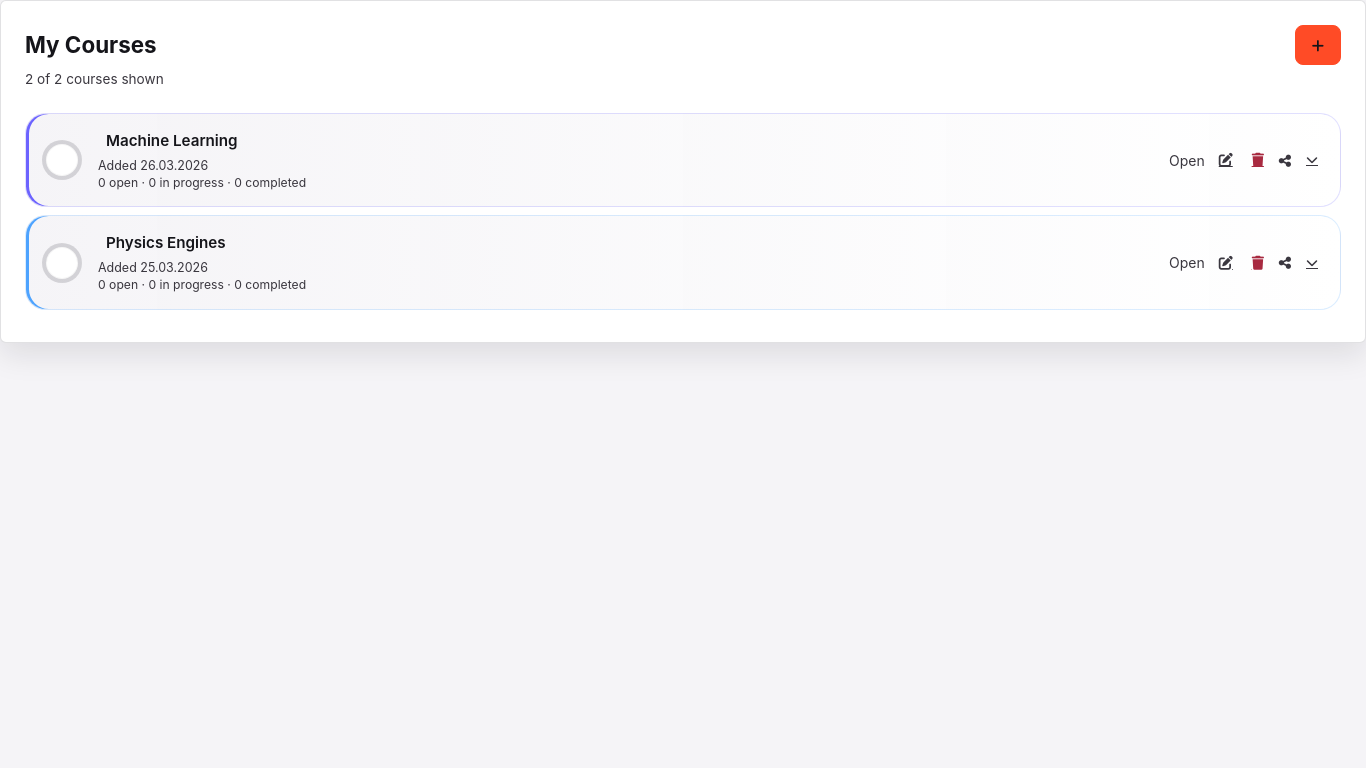
Test: CourseList › removes a course from the list after deletion
The width and height of the screenshot is (1366, 768).
Expected: the link "Machine Learning" is shown, [106,130,238,153]
Click the button named "delete course" in the row of "Added 26.03.2026".
click(1258, 160)  # box [1246,148,1270,172]
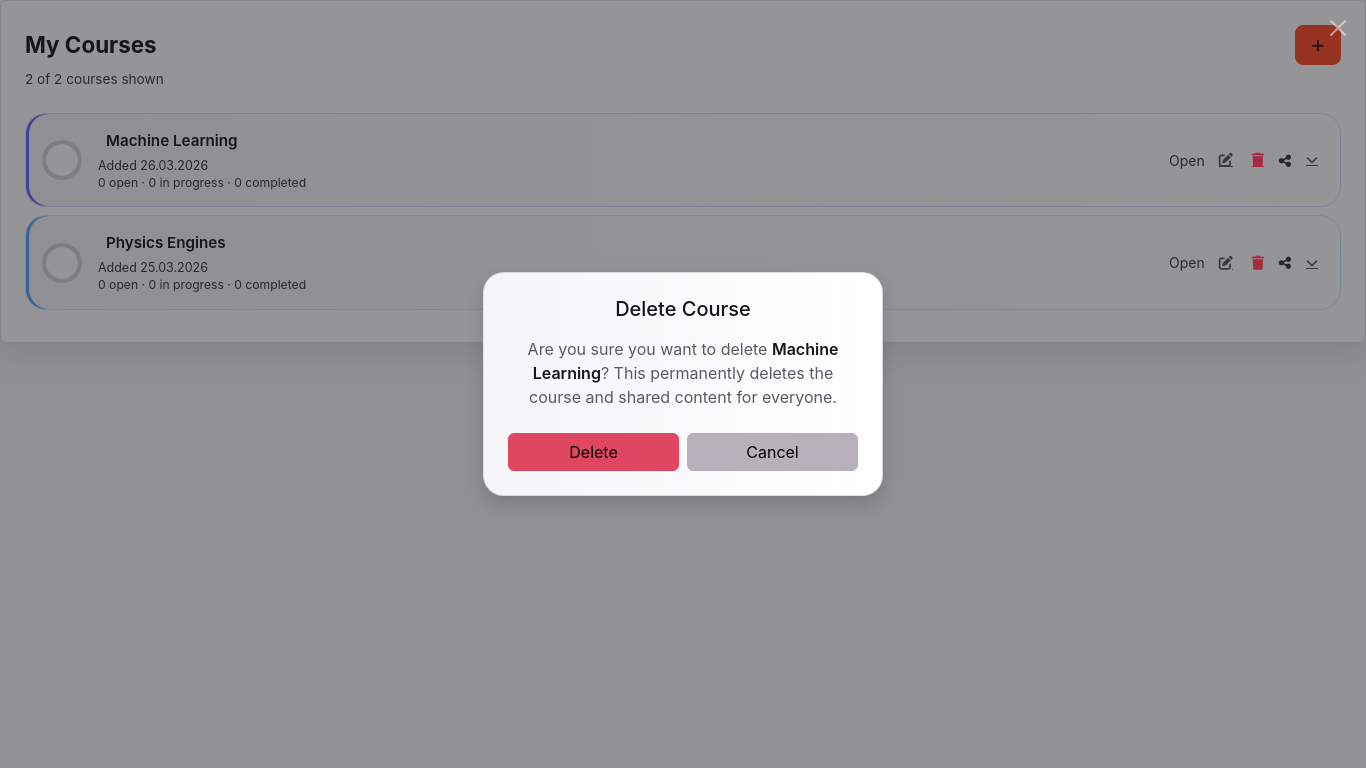
Click the button "Delete".
click(594, 452)  # box [508,433,679,471]
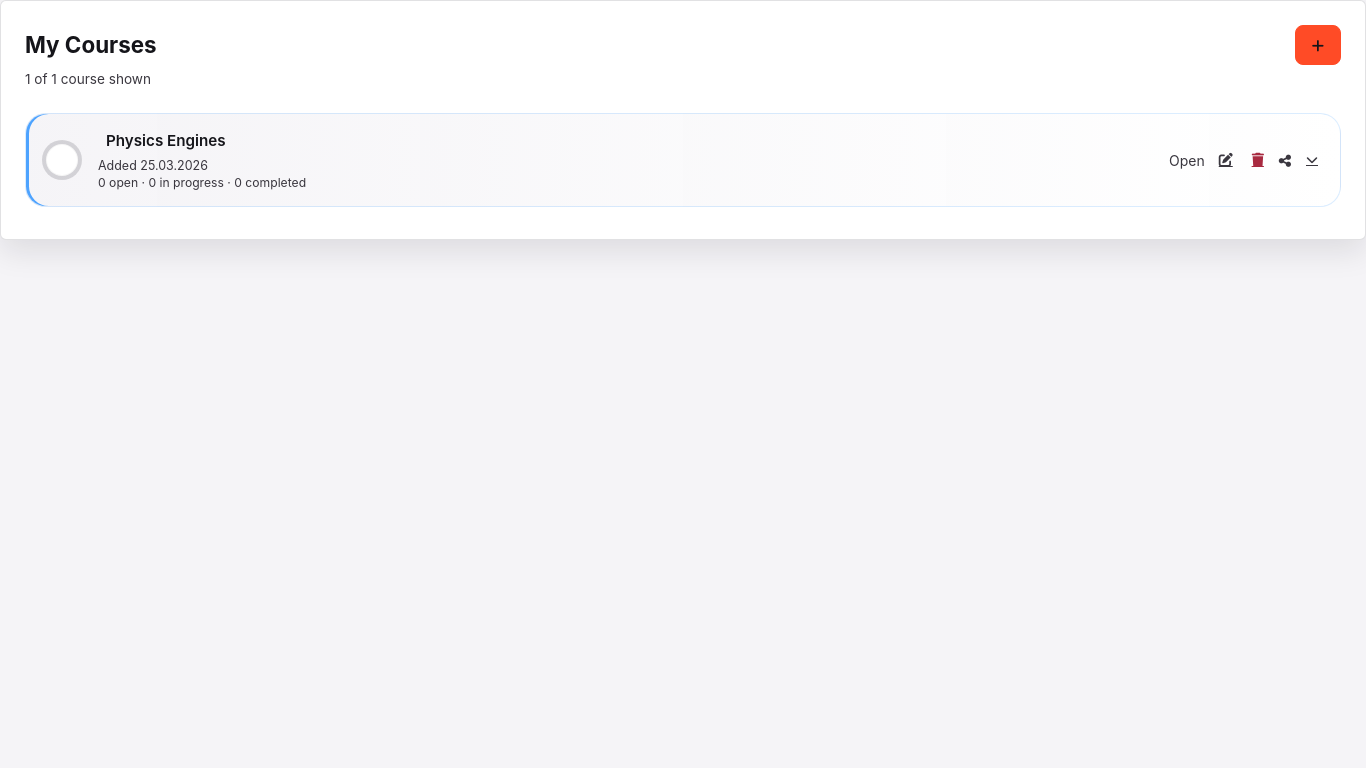
Now the link "Machine Learning" is gone
Now the text "1 of 1 course shown" is shown, box [25,71,151,87]
